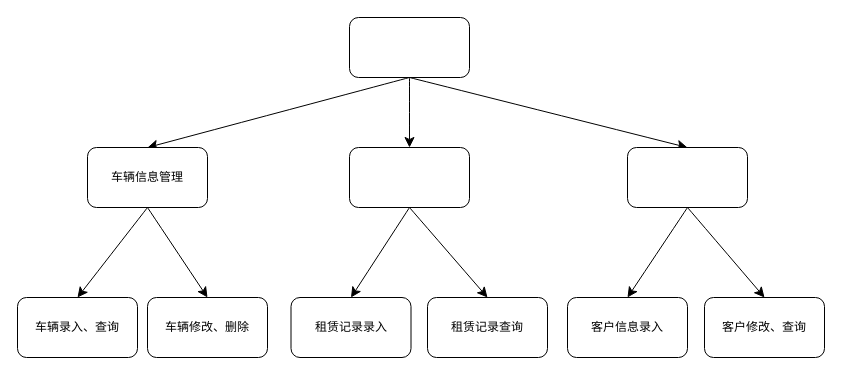
The diagram is 842 pixels wide and 375 high, and some of its shapes have lost their labels. Here are the shapes that lost their labels. From the top down, the centre of each, then its label:
At [409,47]: "车辆租聘管理系统".
At [409,177]: "租聘信息管理".
At [687,177]: "客户信息管理".
